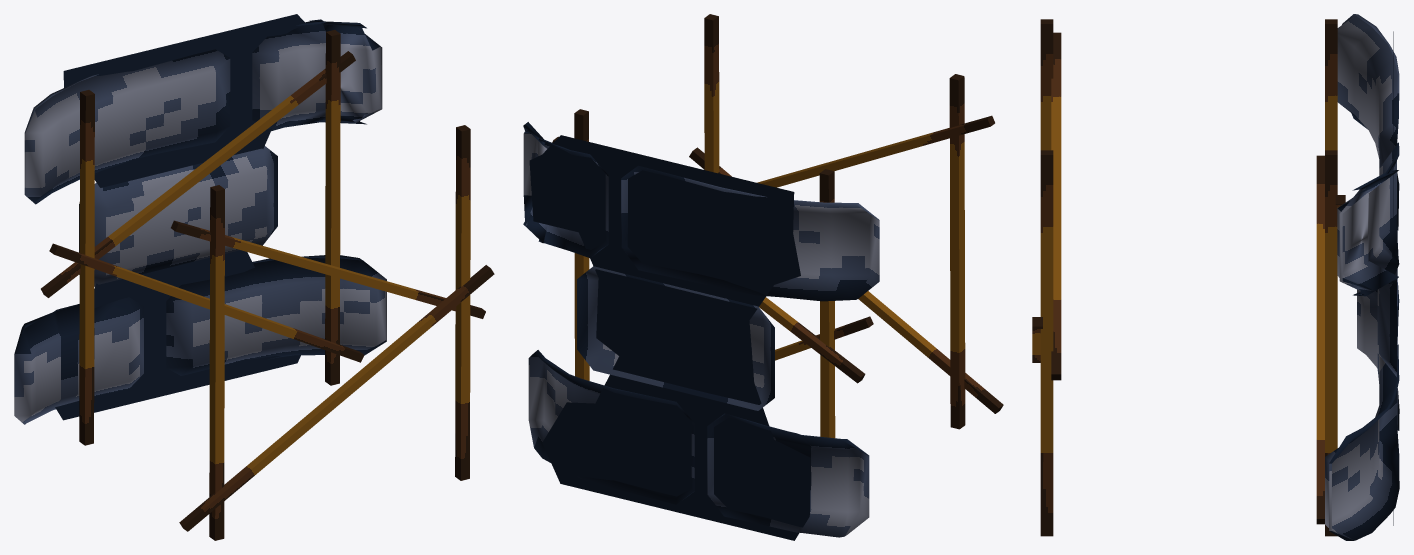
File: tower_part_construction_middle.fbx
The picture shows the model from 3 angles, left to right: view 1: azimuth 30°, elevation 25°; view 2: azimuth 150°, elevation 25°; view 3: azimuth 270°, elevation 25°; orthographic projection. The views are drawn at different scales.
Parts seen in each view (by area): view 1: tower_construction_middle; view 2: tower_construction_middle; view 3: tower_construction_middle.
Boxes of the visible parts, <box> form: tower_construction_middle: <box>14,14,494,540</box>; tower_construction_middle: <box>523,14,1003,540</box>; tower_construction_middle: <box>1032,14,1399,540</box>.
Size of the model in its own units: 213 by 174 by 200.
